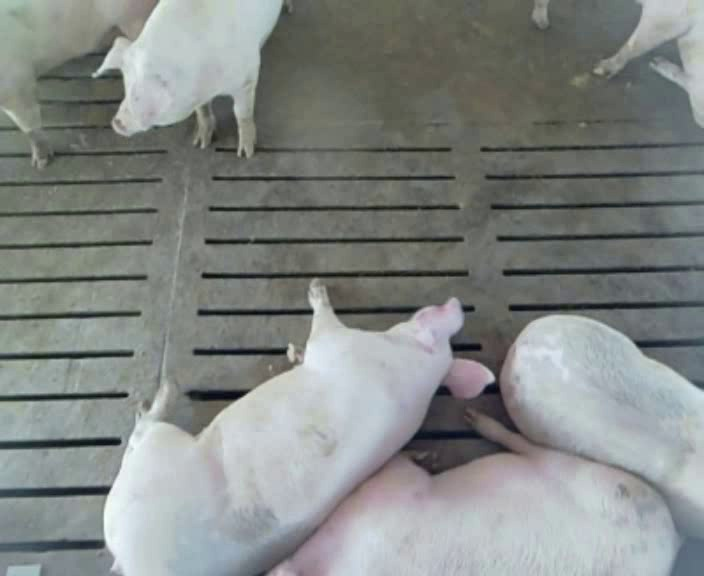pig: (104, 280, 496, 574), (270, 408, 679, 574), (500, 315, 703, 538), (94, 2, 291, 156), (593, 2, 703, 127)
